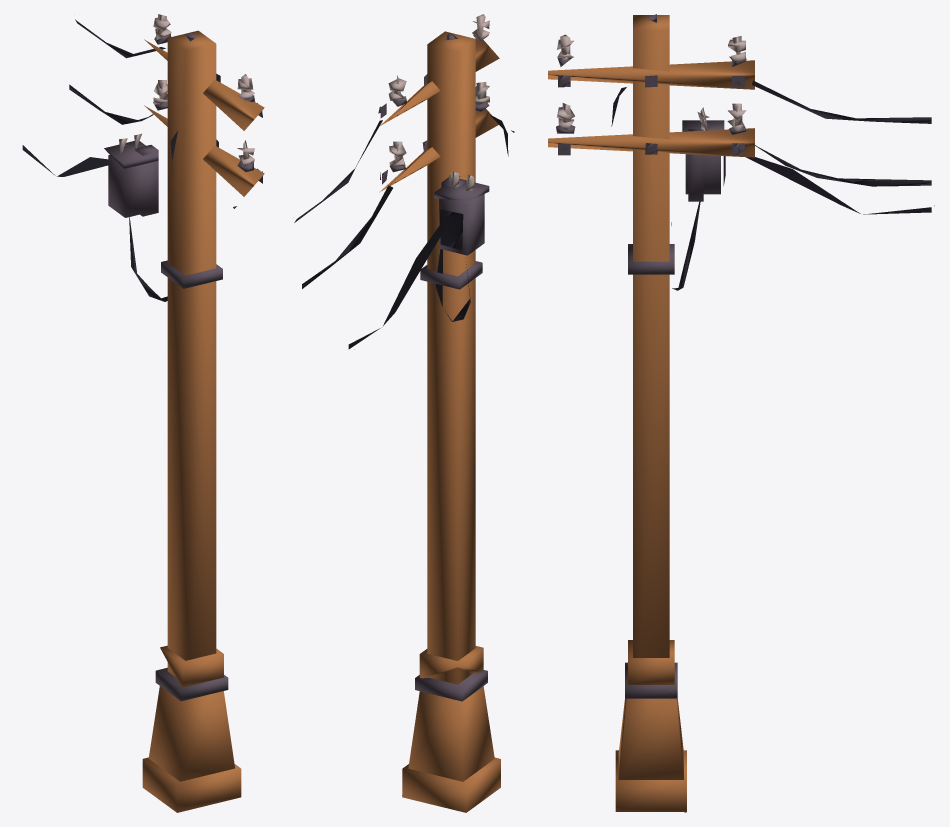
3 views of the same model, side by side, from view 1: azimuth 30°, elevation 25°; view 2: azimuth 150°, elevation 25°; view 3: azimuth 270°, elevation 25° (orthographic). The views are drawn at different scales.
Bounding box in the file's own units: 0.8498 × 7.13 × 3.25.
